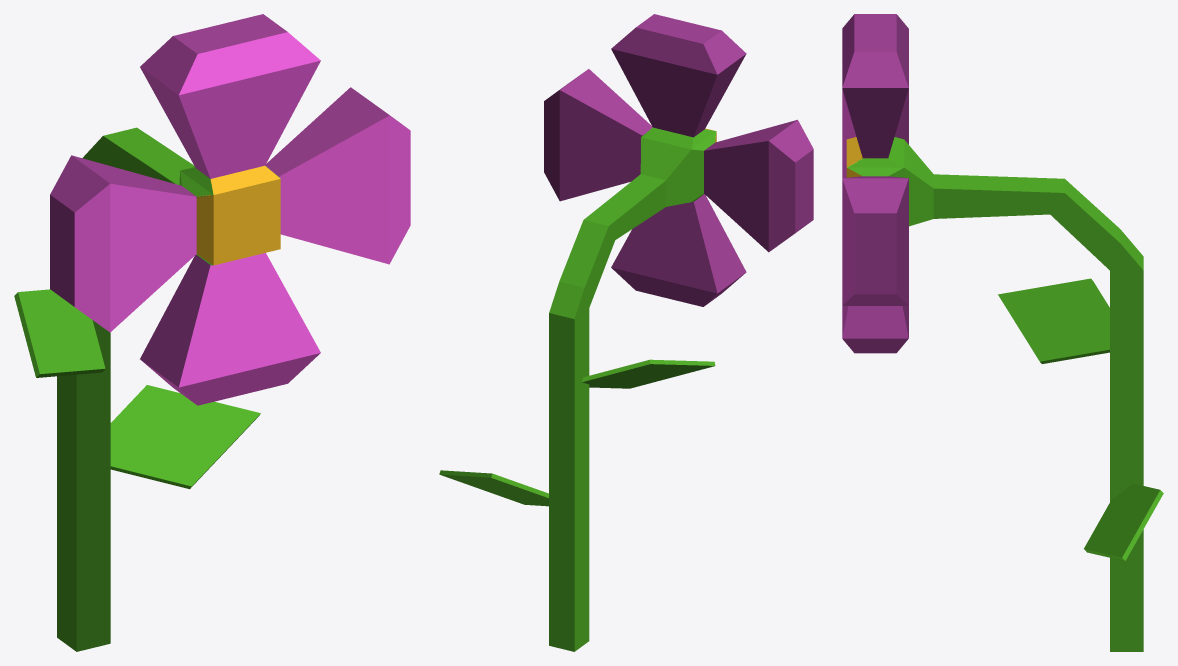
File: Flower.fbx
The picture shows the model from 3 angles, left to right: view 1: azimuth 30°, elevation 25°; view 2: azimuth 150°, elevation 25°; view 3: azimuth 270°, elevation 25°; orthographic projection. The views are drawn at different scales.
Parts seen in each view (by area): view 1: Cube; view 2: Cube; view 3: Cube.
Part boxes in pixels (x1=…): Cube: x1=14, y1=14, x2=410, y2=651; Cube: x1=439, y1=14, x2=813, y2=651; Cube: x1=842, y1=14, x2=1163, y2=651.
Size of the model in its own units: 607 by 1209 by 576.
1 material, 1 textured.
